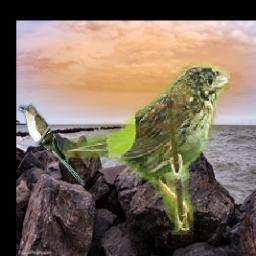Cuckoo: (16, 103, 85, 189)
Sparrow: (61, 63, 230, 236)
